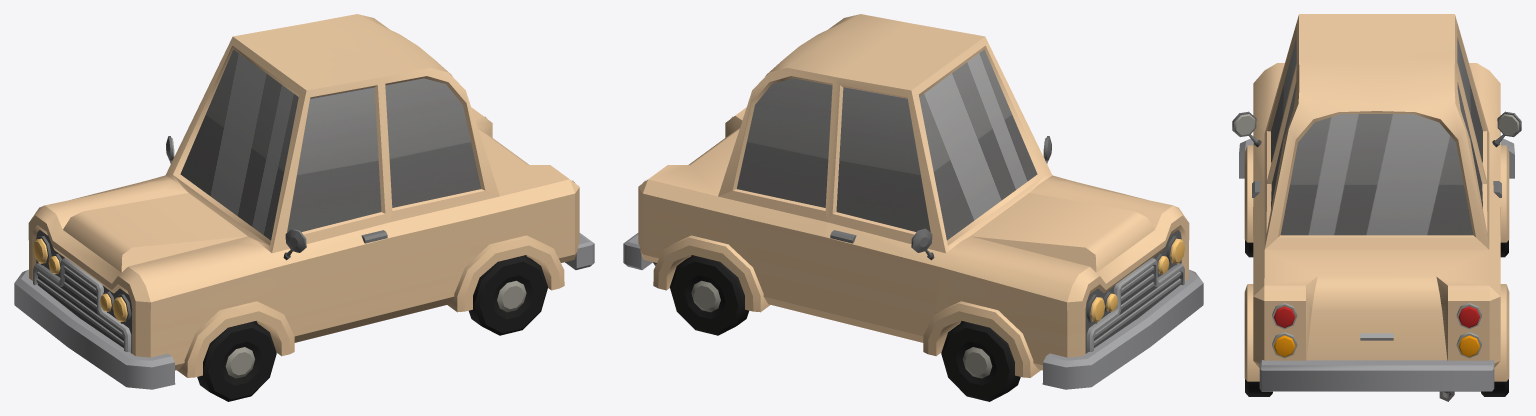
The model's file is Car_8_Y.gltf.
3 renders of one model, left to right at view 1: azimuth 30°, elevation 25°; view 2: azimuth 150°, elevation 25°; view 3: azimuth 270°, elevation 25°, orthographic. The views are drawn at different scales.
Visible parts, largest first — view 1: Car_8_Y, RL, FL; view 2: Car_8_Y, RR, FR; view 3: Car_8_Y, RL, RR.
Boxes of the visible parts, <box> form: Car_8_Y: <box>14,14,594,389</box>; RL: <box>469,255,547,335</box>; FL: <box>197,321,276,401</box>; Car_8_Y: <box>623,14,1203,389</box>; RR: <box>670,255,748,335</box>; FR: <box>941,321,1020,401</box>; Car_8_Y: <box>1232,14,1521,401</box>; RL: <box>1245,379,1272,396</box>; RR: <box>1481,379,1508,396</box>.
Bounding box in the file's own units: 3.38 × 1.84 × 1.7.
3 materials, 3 textured.
